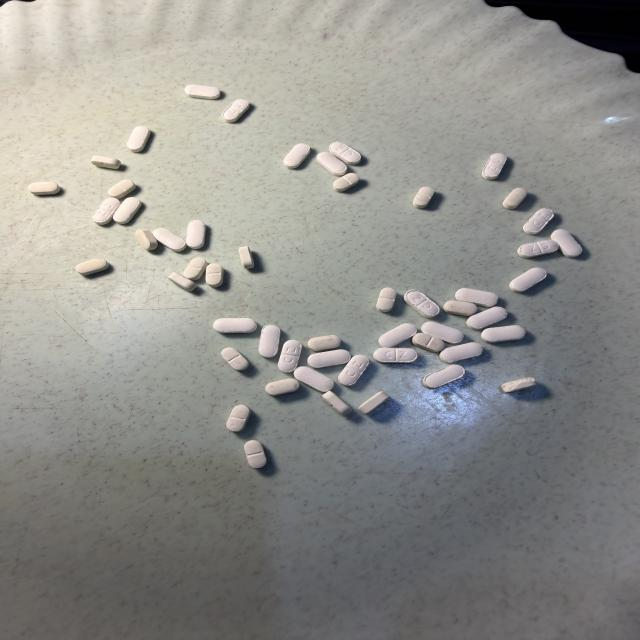pill: (422, 365, 465, 388), (404, 290, 439, 318), (294, 367, 333, 392), (378, 323, 417, 347), (338, 355, 369, 385), (421, 322, 463, 344), (467, 307, 507, 330), (439, 342, 482, 363), (509, 268, 546, 292), (551, 230, 582, 257), (523, 208, 554, 235), (481, 325, 525, 343), (153, 228, 186, 252), (307, 350, 350, 368), (278, 340, 302, 372), (456, 289, 498, 307), (329, 142, 361, 165), (113, 197, 140, 224), (258, 325, 280, 358), (518, 240, 558, 258), (317, 152, 347, 176), (322, 391, 352, 415), (93, 198, 119, 225), (213, 318, 257, 333), (373, 348, 417, 363), (359, 392, 389, 414), (283, 144, 310, 168), (482, 153, 506, 180), (227, 405, 251, 432), (221, 347, 249, 370), (412, 333, 445, 352), (222, 99, 249, 122), (244, 440, 266, 468), (185, 220, 206, 249), (127, 126, 150, 152), (499, 377, 536, 393), (265, 378, 299, 395), (184, 257, 207, 280), (308, 335, 341, 351), (76, 259, 109, 275), (108, 179, 135, 198), (443, 301, 477, 316), (168, 273, 196, 291), (503, 188, 527, 209), (333, 173, 359, 192), (185, 85, 220, 99), (376, 288, 396, 312), (205, 263, 224, 288), (413, 187, 434, 208), (135, 230, 157, 250), (28, 182, 60, 195), (91, 156, 121, 169), (239, 246, 254, 268)
